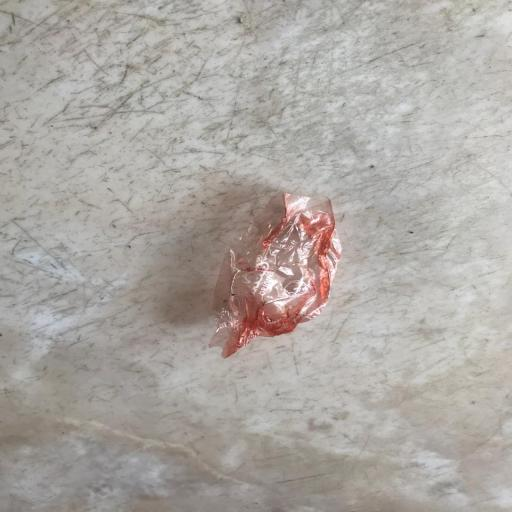waste: (189, 174, 358, 372)
